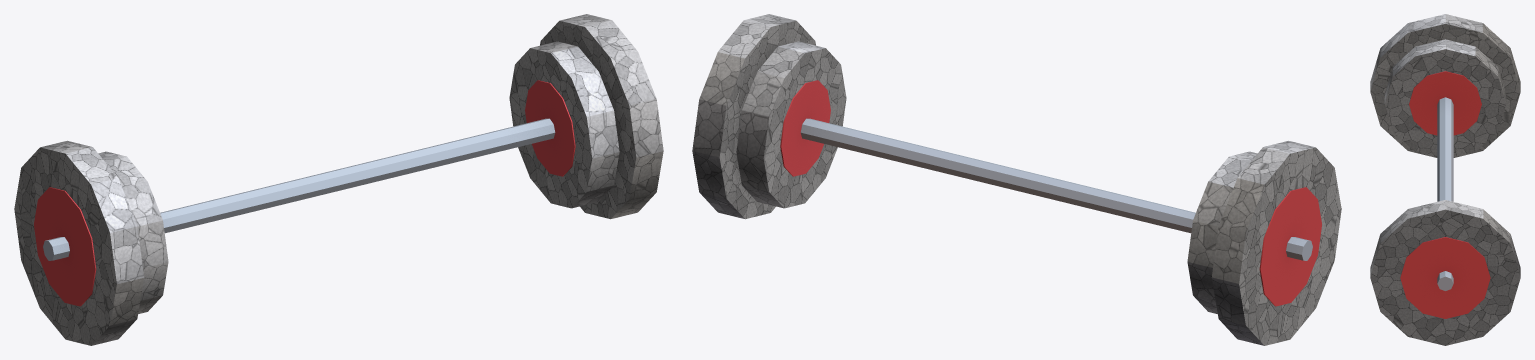
Rendered from kit_gym_bar.fbx.
3 renders of one model, left to right at view 1: azimuth 30°, elevation 25°; view 2: azimuth 150°, elevation 25°; view 3: azimuth 270°, elevation 25°, orthographic. The views are drawn at different scales.
Visible parts, largest first — view 1: kit_gym_bar_body; view 2: kit_gym_bar_body; view 3: kit_gym_bar_body.
Boxes of the visible parts, x1,y1,x2,y2 form: kit_gym_bar_body: [14, 14, 663, 345]; kit_gym_bar_body: [692, 14, 1341, 345]; kit_gym_bar_body: [1370, 14, 1520, 345].
Bounding box in the file's own units: 4250 × 1300 × 1300.
Materials: 1 (1 with a texture image).
